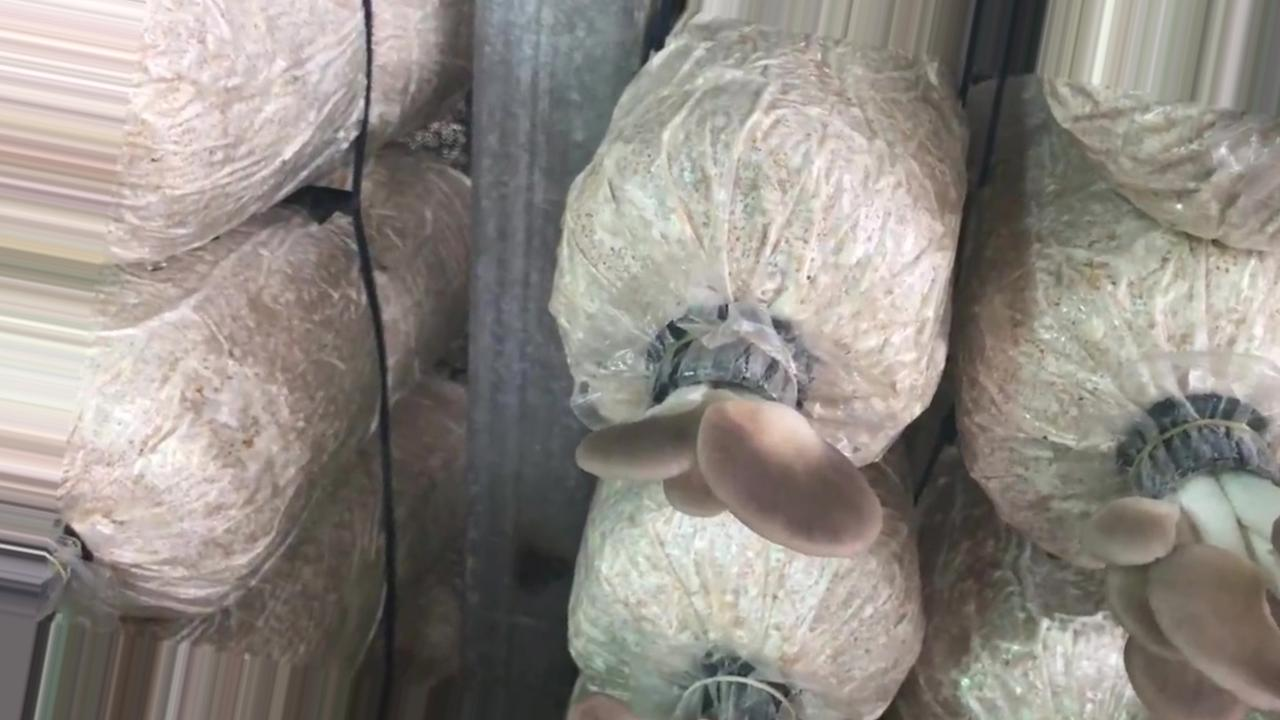nam: (570, 306, 886, 563), (1085, 400, 1280, 720)
